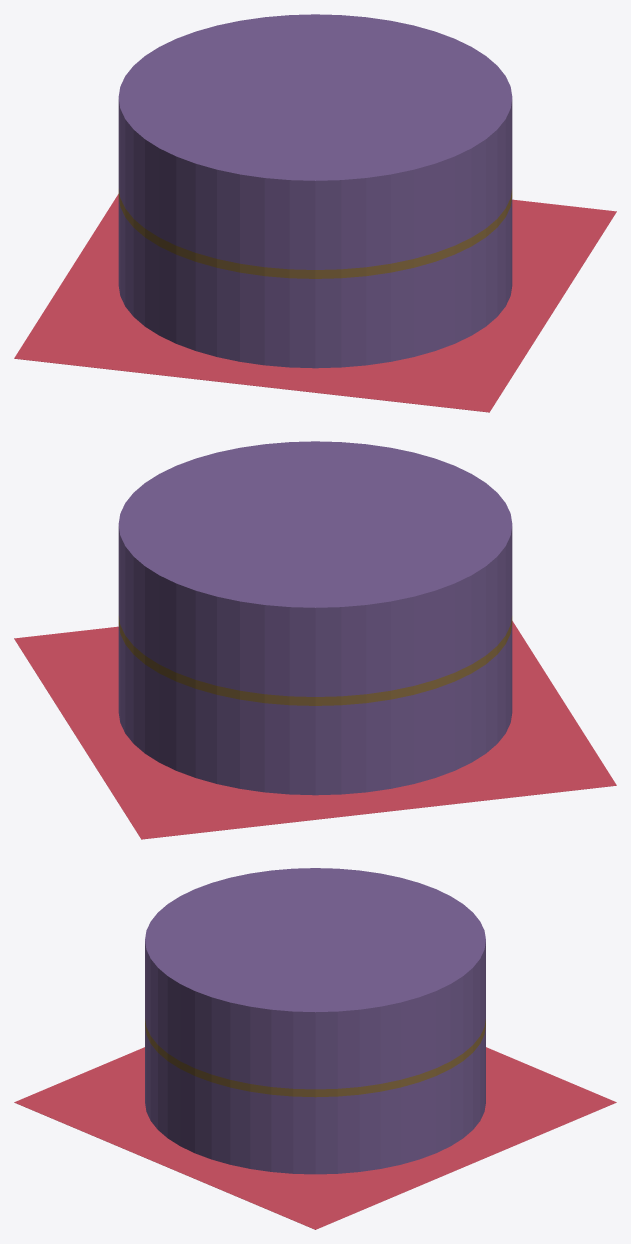
File: UCU.glb
3 views of the same model, one above another, from view 1: azimuth 30°, elevation 25°; view 2: azimuth 150°, elevation 25°; view 3: azimuth 270°, elevation 25° (orthographic). The views are drawn at different scales.
Parts seen in each view (by area): view 1: Mesh_Mesh_head_geo.001_lambert2SG.001; view 2: Mesh_Mesh_head_geo.001_lambert2SG.001; view 3: Mesh_Mesh_head_geo.001_lambert2SG.001.
Part boxes in pixels (x1=…): Mesh_Mesh_head_geo.001_lambert2SG.001: x1=14, y1=14, x2=616, y2=412; Mesh_Mesh_head_geo.001_lambert2SG.001: x1=14, y1=441, x2=616, y2=839; Mesh_Mesh_head_geo.001_lambert2SG.001: x1=14, y1=868, x2=616, y2=1229.
Bounding box in the file's own units: 0.0354 × 0.0105 × 0.0354.
